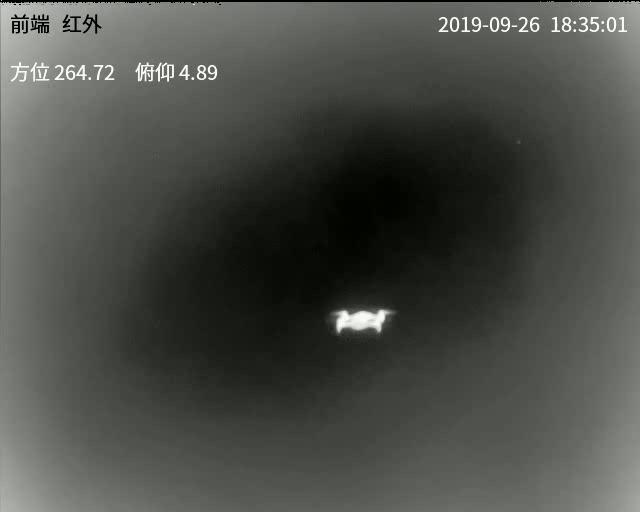DRONE: (330, 309, 392, 333)
